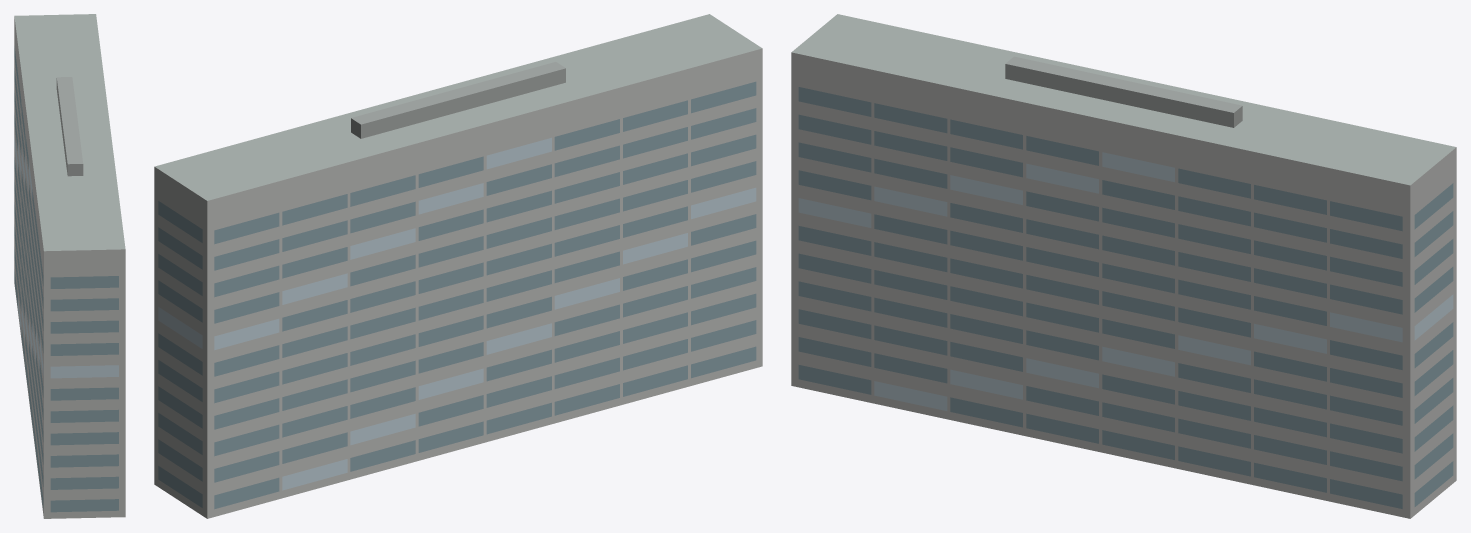
Rendered from fallback-olympic-athletes-village-304.glb.
The picture shows the model from 3 angles, left to right: view 1: azimuth 30°, elevation 25°; view 2: azimuth 150°, elevation 25°; view 3: azimuth 270°, elevation 25°; orthographic projection. The views are drawn at different scales.
Parts seen in each view (by area): view 1: fallback-olympic-athletes-village-304; view 2: fallback-olympic-athletes-village-304; view 3: fallback-olympic-athletes-village-304.
Boxes of the visible parts, bbox=[...] form: fallback-olympic-athletes-village-304: bbox=[14, 14, 125, 518]; fallback-olympic-athletes-village-304: bbox=[154, 14, 762, 518]; fallback-olympic-athletes-village-304: bbox=[791, 14, 1456, 518].
Bounding box in the file's own units: 40.37 × 38.25 × 66.18.
